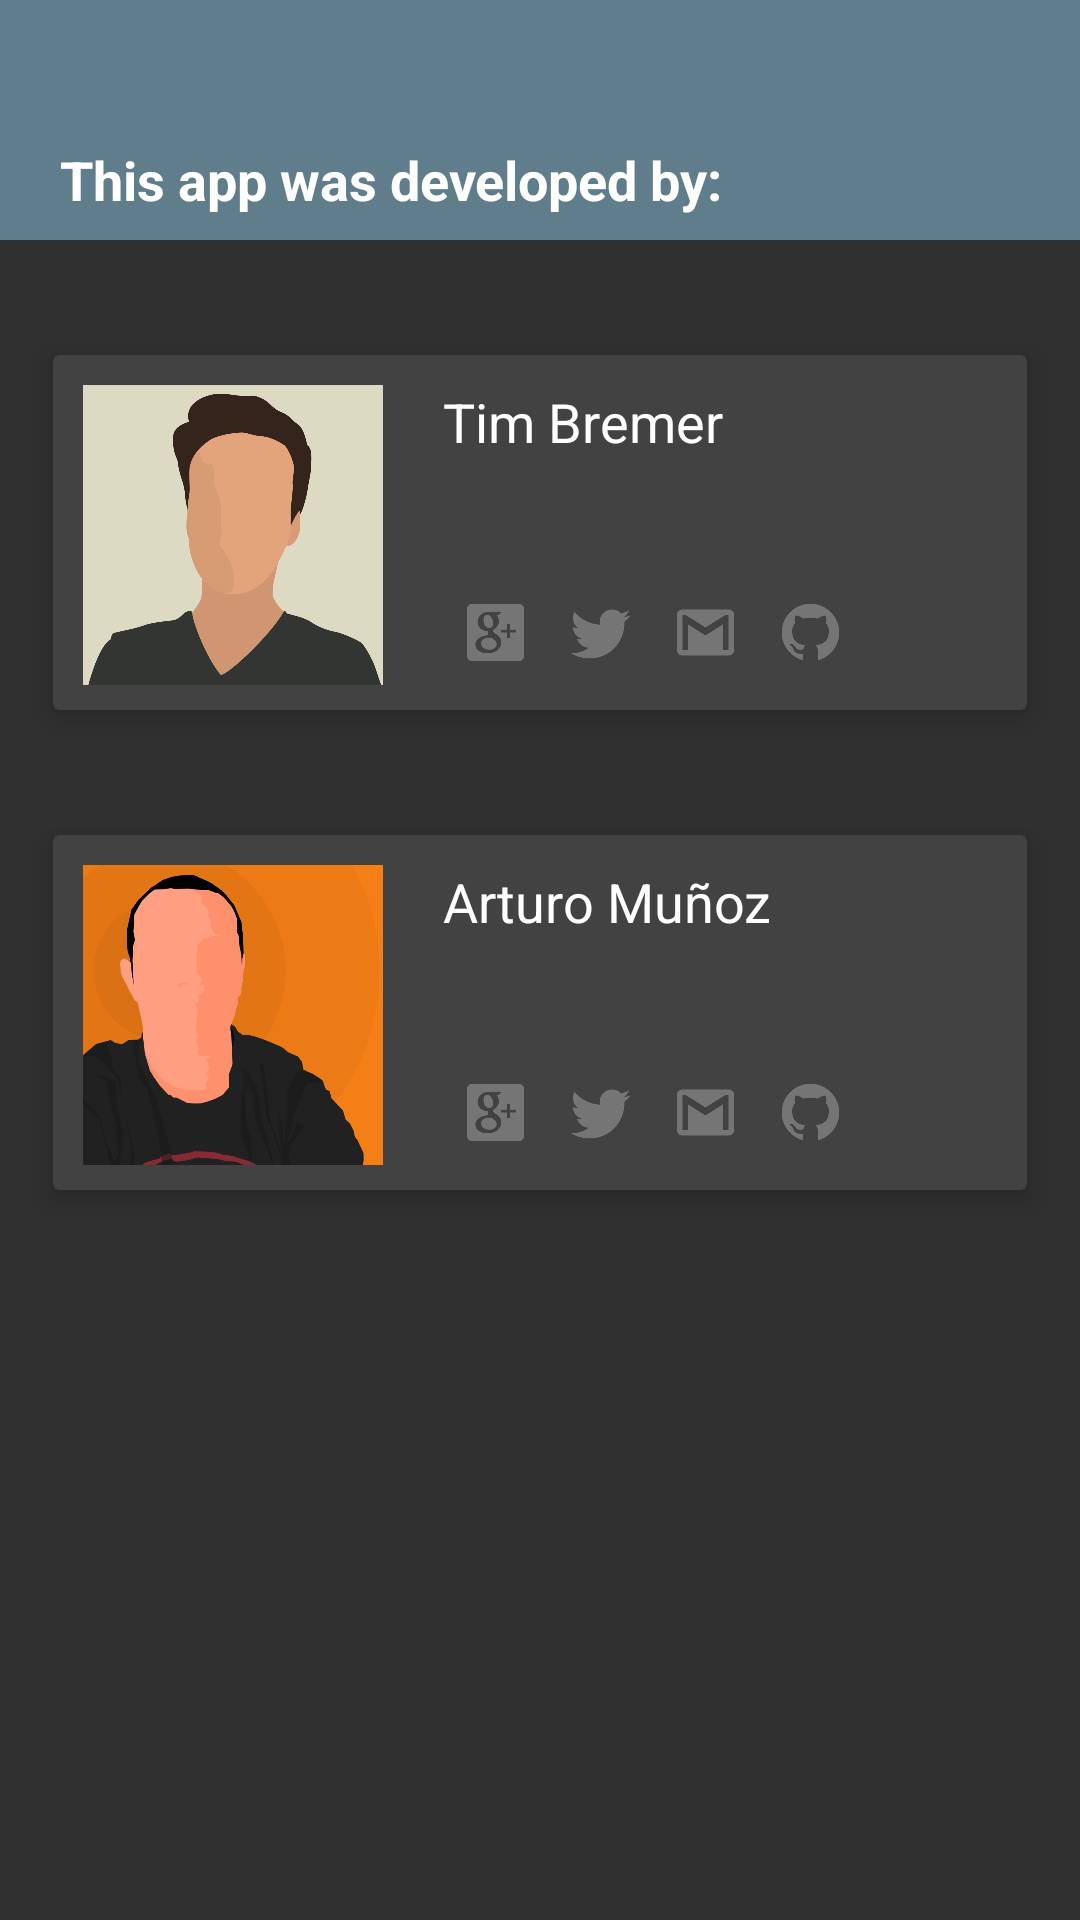

Locate icon controls on the screen. Image size 1080w x 1920h, boxes as (x1, y1, x2, y2).
newprofile: (83, 865, 383, 1165)
tprofile: (83, 385, 383, 685)
